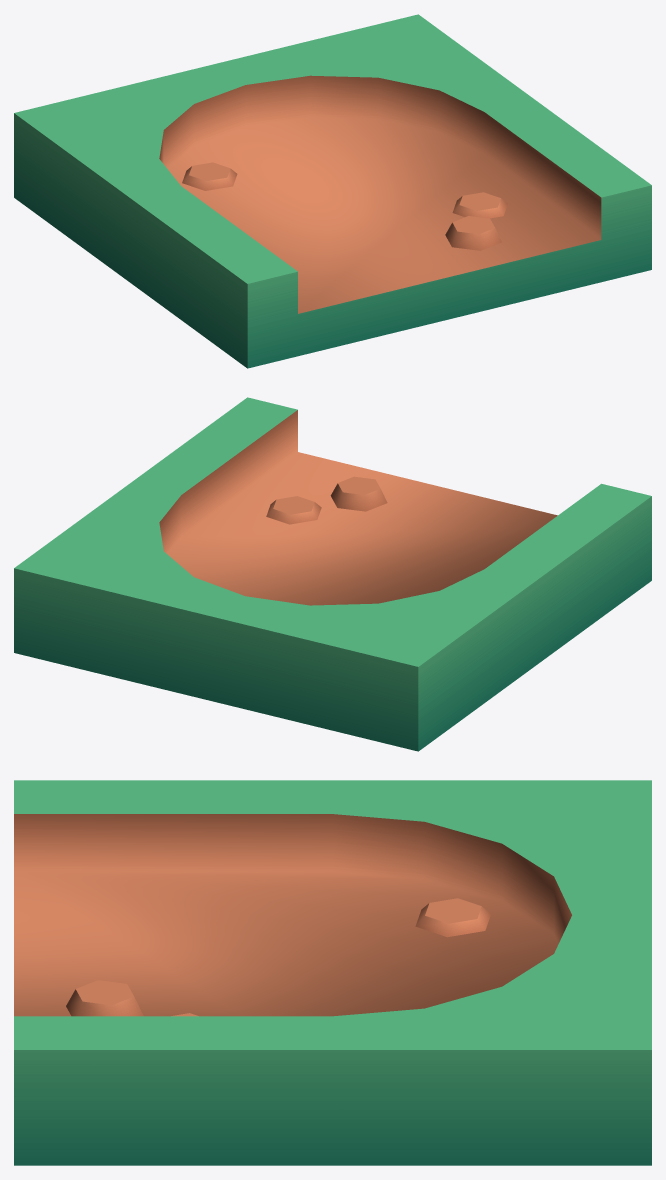
File: tile-end-round.fbx
The picture shows the model from 3 angles, top to bottom: view 1: azimuth 30°, elevation 25°; view 2: azimuth 150°, elevation 25°; view 3: azimuth 270°, elevation 25°; orthographic projection. The views are drawn at different scales.
Visible parts, largest first — view 1: tile-end-round; view 2: tile-end-round; view 3: tile-end-round.
Boxes of the visible parts, x1,y1,x2,y2 form: tile-end-round: (14,14,651,368); tile-end-round: (14,397,651,751); tile-end-round: (14,780,651,1165).
Bounding box in the file's own units: 100 × 20 × 100.
